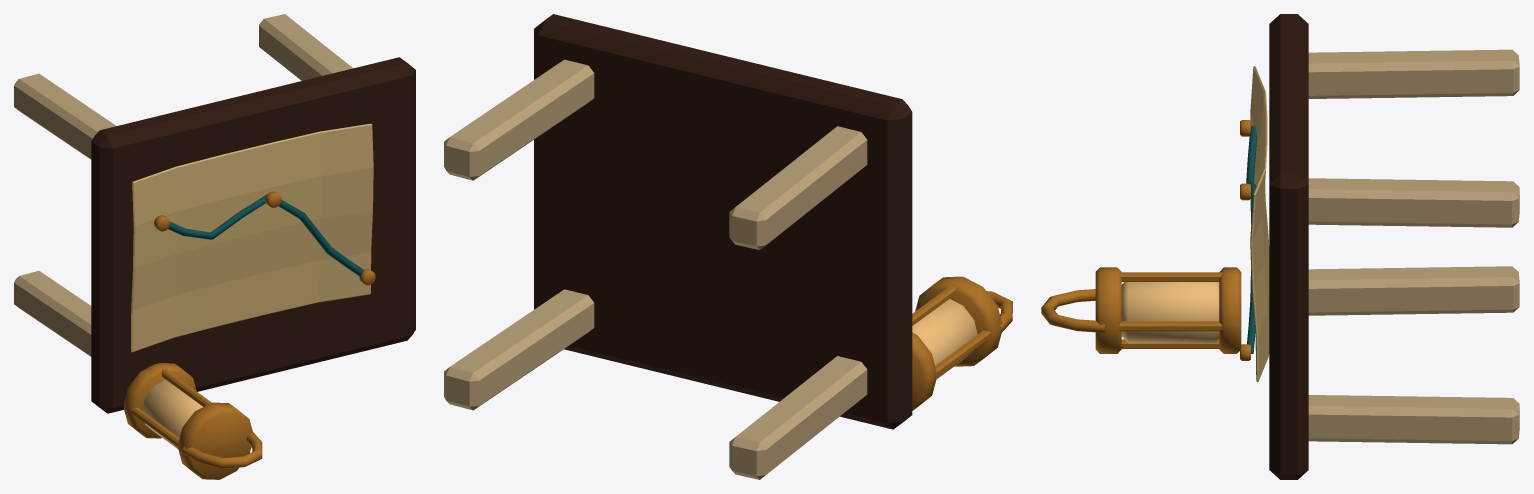
The model's file is SM_LT_TraderHub_Workbench.obj.
3 views of the same model, side by side, from view 1: azimuth 30°, elevation 25°; view 2: azimuth 150°, elevation 25°; view 3: azimuth 270°, elevation 25° (orthographic). The views are drawn at different scales.
Parts seen in each view (by area): view 1: SM_LT_TraderHub_Workbench_EXPORT; view 2: SM_LT_TraderHub_Workbench_EXPORT; view 3: SM_LT_TraderHub_Workbench_EXPORT.
Boxes of the visible parts, x1,y1,x2,y2 form: SM_LT_TraderHub_Workbench_EXPORT: [14, 14, 415, 479]; SM_LT_TraderHub_Workbench_EXPORT: [444, 14, 1012, 479]; SM_LT_TraderHub_Workbench_EXPORT: [1041, 14, 1519, 479].
Bounding box in the file's own units: 185 × 162 × 220.
